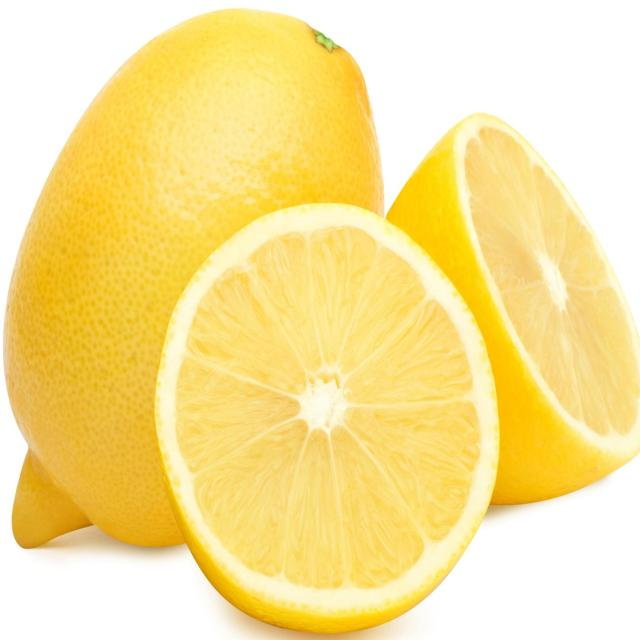lemon: (0, 0, 399, 557), (147, 196, 504, 640), (342, 103, 640, 521)
